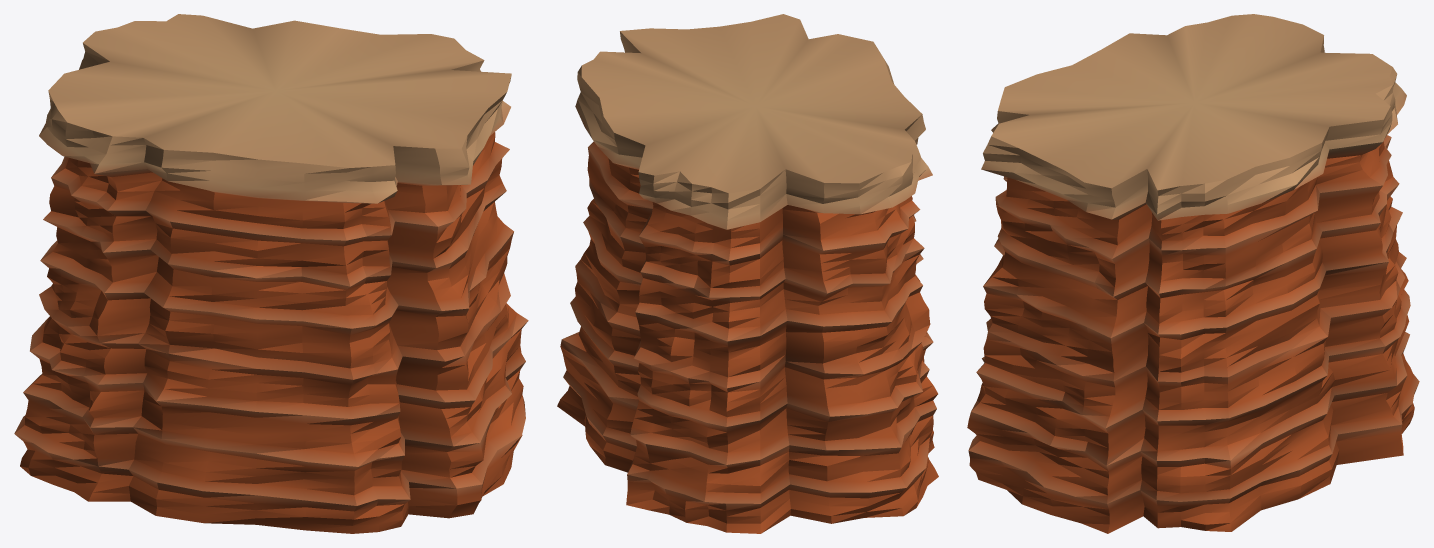
File: terrain-078.glb
3 views of the same model, side by side, from view 1: azimuth 30°, elevation 25°; view 2: azimuth 150°, elevation 25°; view 3: azimuth 270°, elevation 25° (orthographic). The views are drawn at different scales.
Parts seen in each view (by area): view 1: terrain-078; view 2: terrain-078; view 3: terrain-078.
Boxes of the visible parts, <box> form: terrain-078: <box>14,14,528,533</box>; terrain-078: <box>557,14,938,533</box>; terrain-078: <box>967,14,1419,533</box>.
Size of the model in its own units: 41.8 by 34.77 by 41.49.
